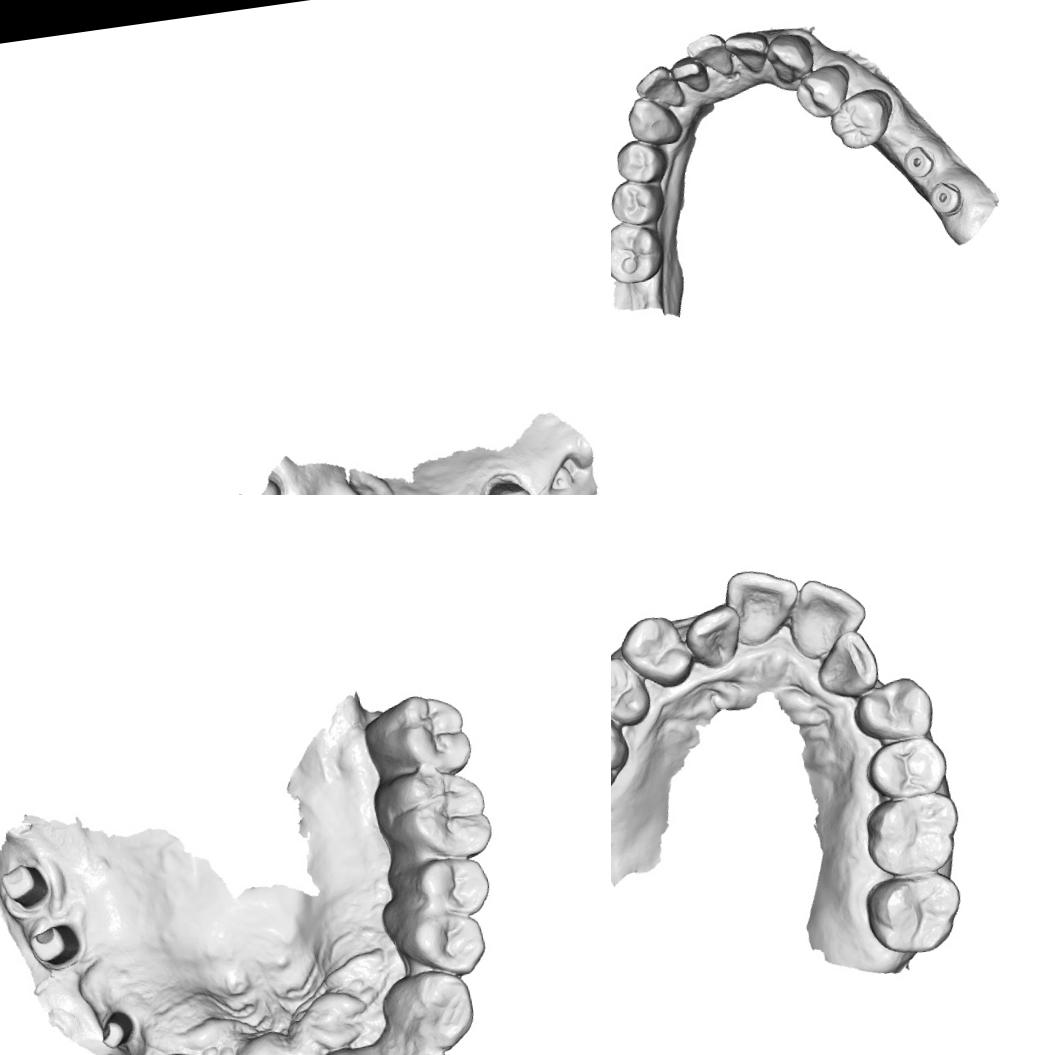abutment: (23, 920, 84, 973), (0, 858, 52, 912), (92, 1006, 138, 1054)
canine: (395, 962, 480, 1055), (624, 91, 686, 150), (762, 28, 818, 88)
crown: (475, 470, 541, 495)
implant: (926, 178, 965, 218), (900, 142, 937, 182), (547, 464, 575, 492)
incisor: (782, 570, 874, 661), (721, 562, 807, 654), (810, 626, 884, 700), (682, 602, 748, 673), (631, 61, 686, 114), (722, 26, 773, 78), (684, 30, 734, 81), (668, 52, 712, 96), (390, 1035, 458, 1055)
molar: (362, 686, 476, 787), (383, 766, 495, 868), (860, 867, 970, 961), (858, 786, 965, 881), (611, 216, 669, 288), (611, 691, 638, 801)
premolar: (615, 606, 694, 693), (848, 673, 938, 746), (861, 732, 950, 804), (408, 906, 492, 982), (412, 848, 496, 920), (825, 85, 899, 153), (792, 61, 856, 122), (611, 651, 654, 731), (611, 175, 669, 229), (612, 134, 672, 186)
